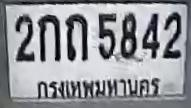2: (14, 13, 34, 61), (162, 12, 181, 58)
4: (141, 12, 159, 58)
5: (97, 12, 116, 60)
8: (120, 12, 137, 58)
A01: (37, 14, 60, 61)
A22: (64, 13, 87, 60)
BKK: (31, 73, 163, 100)
